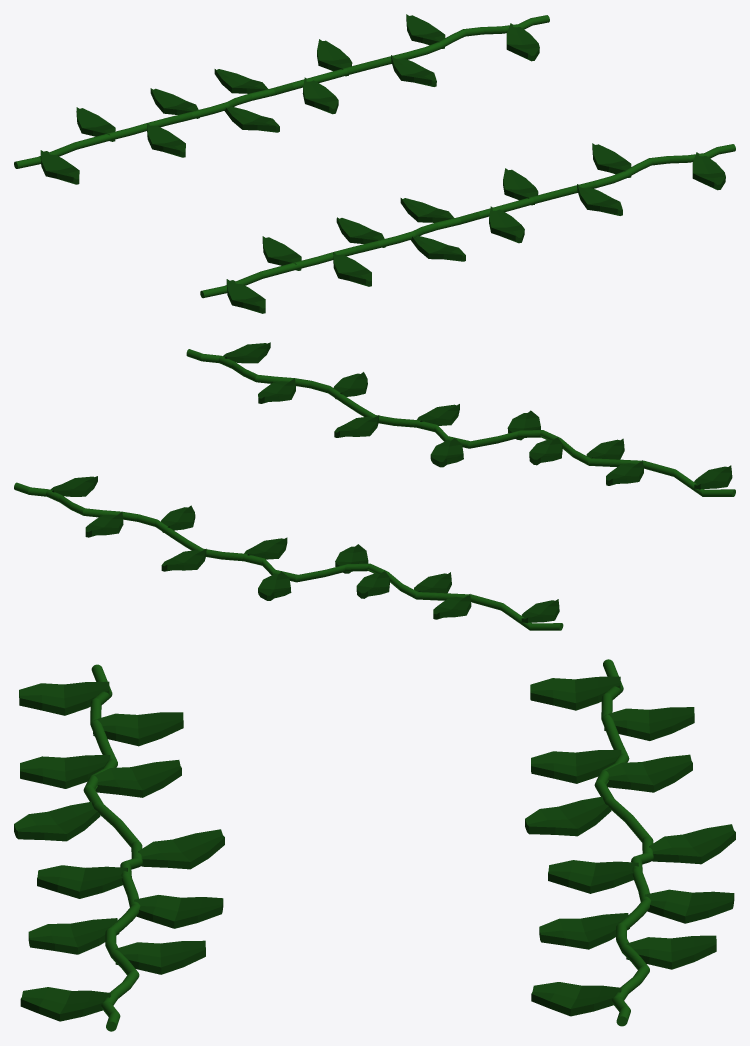
The model's file is Vines Sparse.fbx.
3 views of the same model, one above another, from view 1: azimuth 30°, elevation 25°; view 2: azimuth 150°, elevation 25°; view 3: azimuth 270°, elevation 25° (orthographic). The views are drawn at different scales.
Visible parts, largest first — view 1: VineLeaf.034; view 2: VineLeaf.034; view 3: VineLeaf.034.
Part boxes in pixels (<box>): VineLeaf.034: <box>14,14,735,313</box>; VineLeaf.034: <box>14,342,735,630</box>; VineLeaf.034: <box>14,659,735,1031</box>.
Bounding box in the file's own units: 987 × 49.86 × 793.
